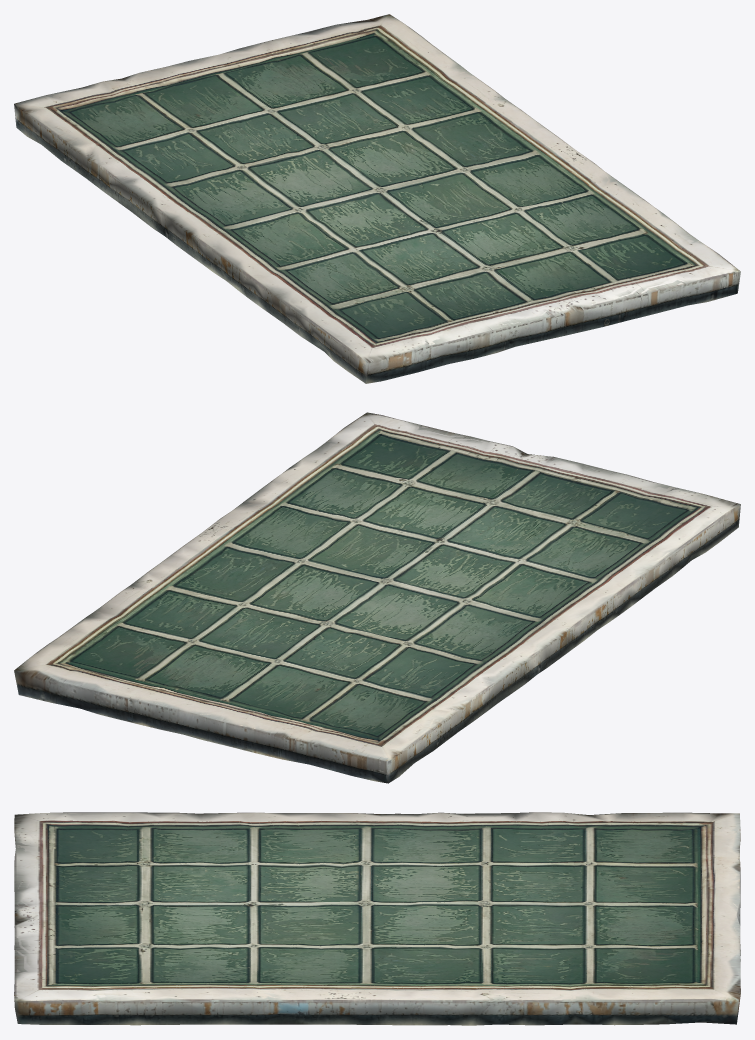
The model's file is EX_Lab_GlassRoof.fbx.
3 views of the same model, one above another, from view 1: azimuth 30°, elevation 25°; view 2: azimuth 150°, elevation 25°; view 3: azimuth 270°, elevation 25° (orthographic). The views are drawn at different scales.
Visible parts, largest first — view 1: texture_mapping; view 2: texture_mapping; view 3: texture_mapping.
Part boxes in pixels (x1,y1,x2,y2): texture_mapping: (14,14,740,383); texture_mapping: (14,412,740,783); texture_mapping: (14,812,740,1025).
Bounding box in the file's own units: 0.6157 × 1 × 0.0479.
Materials: 1 (1 with a texture image).
